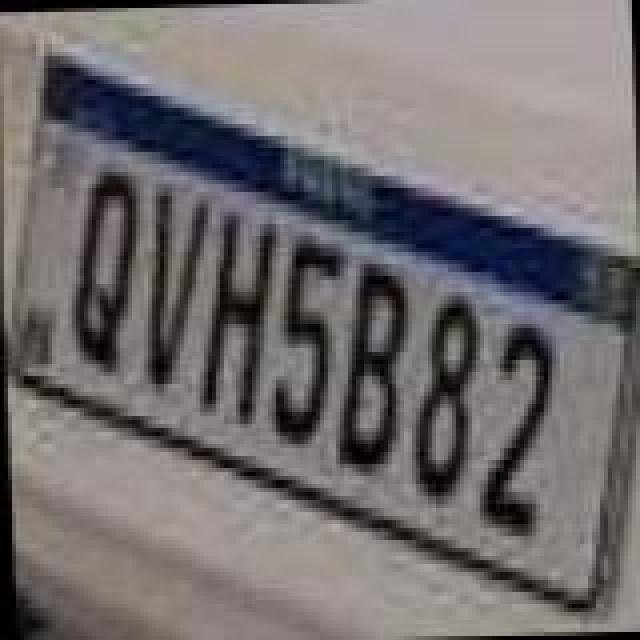2: (468, 314, 568, 538)
5: (260, 228, 352, 444)
8: (402, 288, 486, 504)
B: (326, 254, 418, 478)
H: (184, 204, 284, 428)
Q: (62, 164, 146, 380)
V: (138, 178, 214, 394)
